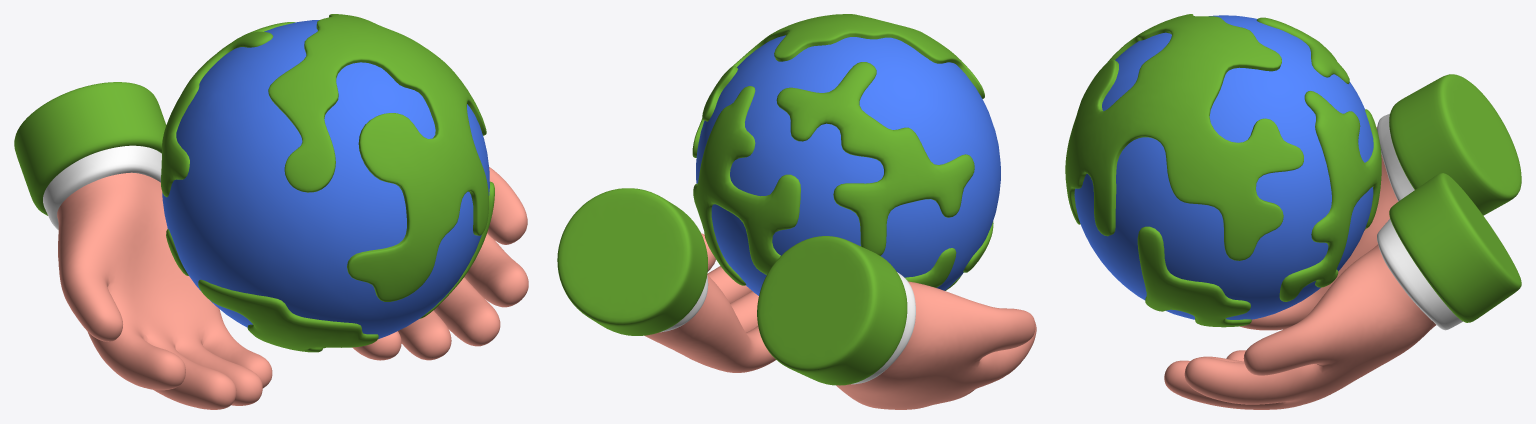
The model's file is SaveEarth.glb.
3 views of the same model, side by side, from view 1: azimuth 30°, elevation 25°; view 2: azimuth 150°, elevation 25°; view 3: azimuth 270°, elevation 25° (orthographic). The views are drawn at different scales.
Visible parts, largest first — view 1: Cube.006, Cube.100, Cube.088, Cylinder.010, Cube.090, Cube.087; view 2: Cube.006, Cube.100, Cylinder.010, Cylinder.011, Cube.088, Cube.090, Cube.087; view 3: Cube.100, Cube.006, Cube.090, Cylinder.010, Cylinder.011, Cube.089, Cube.088, Cube.087.
Part boxes in pixels (x1=…): Cube.006: x1=162, y1=20, x2=489, y2=339; Cube.100: x1=161, y1=14, x2=494, y2=352; Cube.088: x1=57, y1=172, x2=272, y2=409; Cylinder.010: x1=14, y1=82, x2=166, y2=215; Cube.090: x1=352, y1=167, x2=528, y2=360; Cube.087: x1=43, y1=145, x2=161, y2=229; Cube.006: x1=696, y1=35, x2=1000, y2=295; Cube.100: x1=692, y1=14, x2=993, y2=290; Cylinder.010: x1=757, y1=236, x2=907, y2=385; Cylinder.011: x1=557, y1=188, x2=707, y2=335; Cube.088: x1=836, y1=281, x2=1036, y2=409; Cube.090: x1=644, y1=233, x2=775, y2=372; Cube.087: x1=851, y1=272, x2=915, y2=384; Cube.100: x1=1065, y1=14, x2=1381, y2=327; Cube.006: x1=1074, y1=15, x2=1373, y2=319; Cube.090: x1=1164, y1=244, x2=1435, y2=409; Cylinder.010: x1=1389, y1=74, x2=1521, y2=215; Cylinder.011: x1=1389, y1=173, x2=1521, y2=322; Cube.089: x1=1377, y1=219, x2=1462, y2=330; Cube.088: x1=1239, y1=127, x2=1398, y2=330; Cube.087: x1=1377, y1=113, x2=1414, y2=201.
Size of the model in its own units: 7.93 by 6.16 by 7.61.
